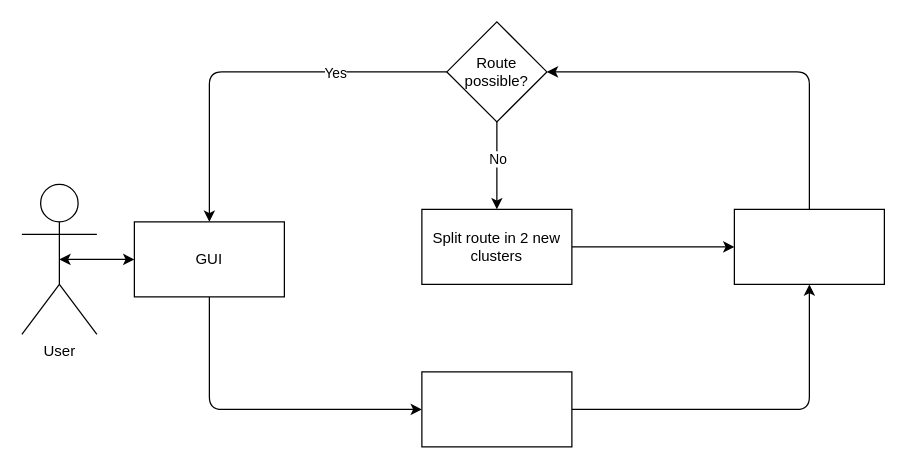
This 906x469 diagram has some shape labels left out. The shapes that lost their labels are listed below. From the top down, each one's box as (x1, y1, x2, y2) in pixels, then its label:
(733, 208, 884, 284): Calculate Route
(421, 371, 572, 447): Add to closest cluster
